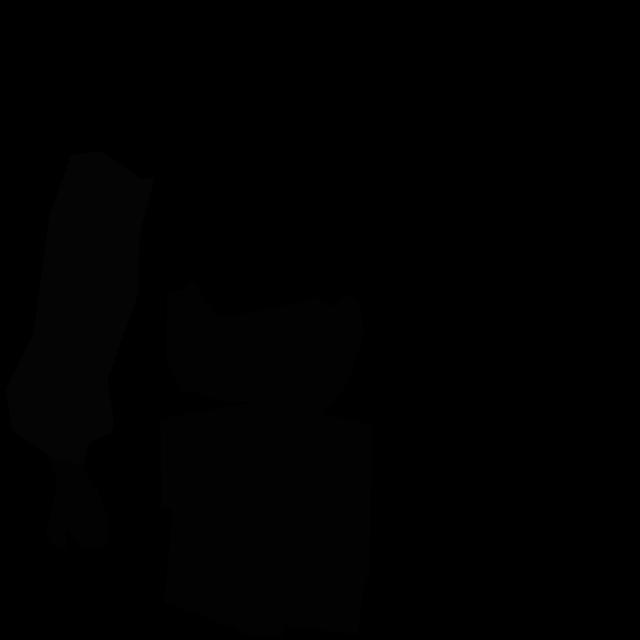cardboard: (160, 403, 373, 639), (166, 280, 364, 416), (46, 457, 108, 550)
soft_plastic: (6, 151, 155, 466)
